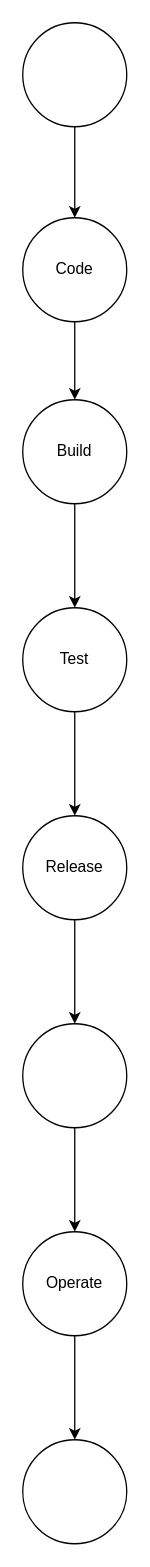
Some shapes in this 150 by 1567 pixel diagram are drawn without their labels. Here are the shapes that lost their labels. From the top down, the centre of each, then its label:
At point (74, 74): "Plan".
At point (74, 1075): "Deploy".
At point (74, 1491): "Monitor".
